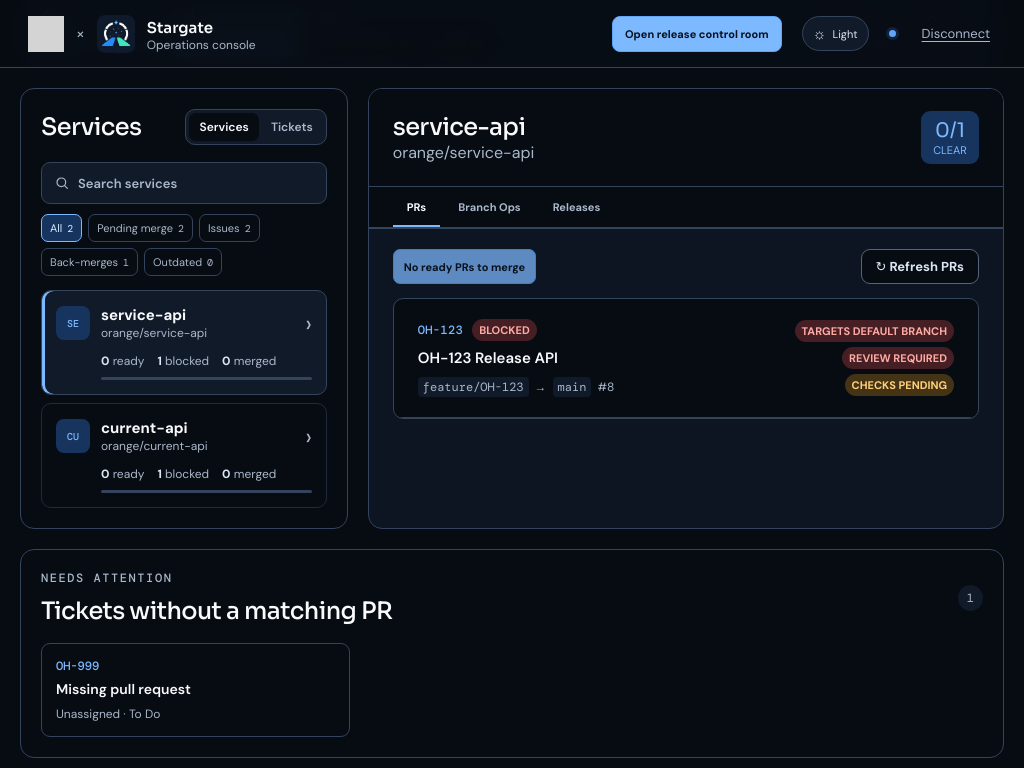
Scenario: ReleaseOverview › includes divergent branches without an open back-merge PR
(page scrolled)
Click the button "Back-merges 1".
click(90, 262)  # box [41,248,138,276]
(page scrolled)
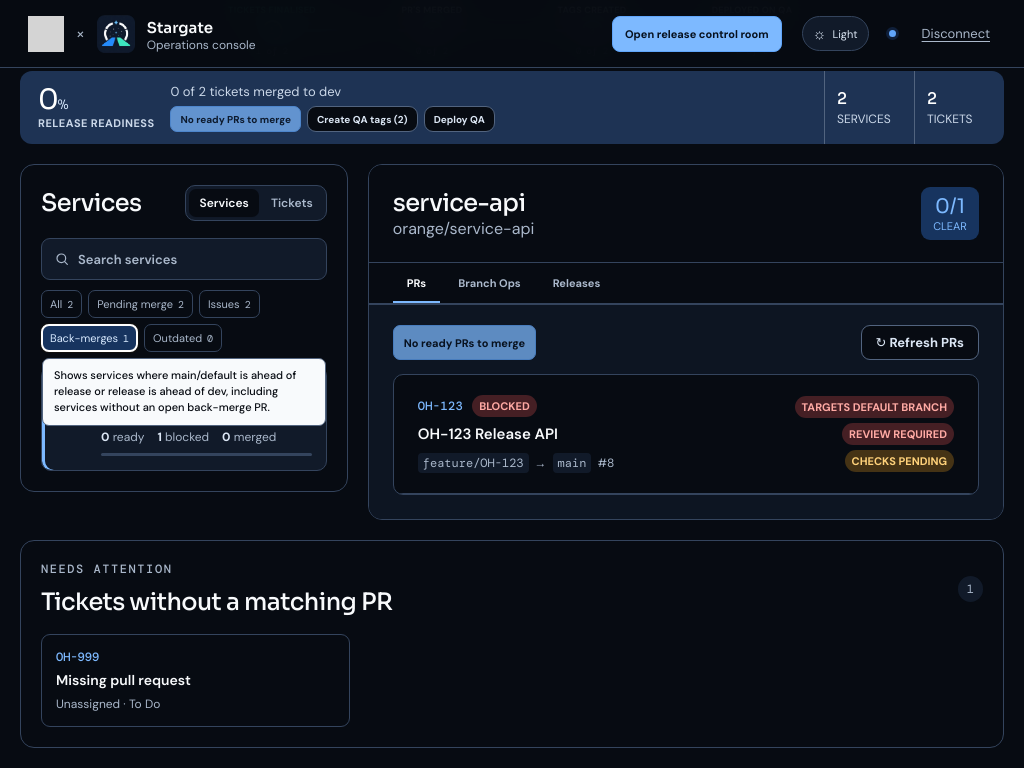
Expected: the 2nd text "orange/service-api" is shown, [101,401,207,417]
Expected: the button "orange/current-api" is gone
